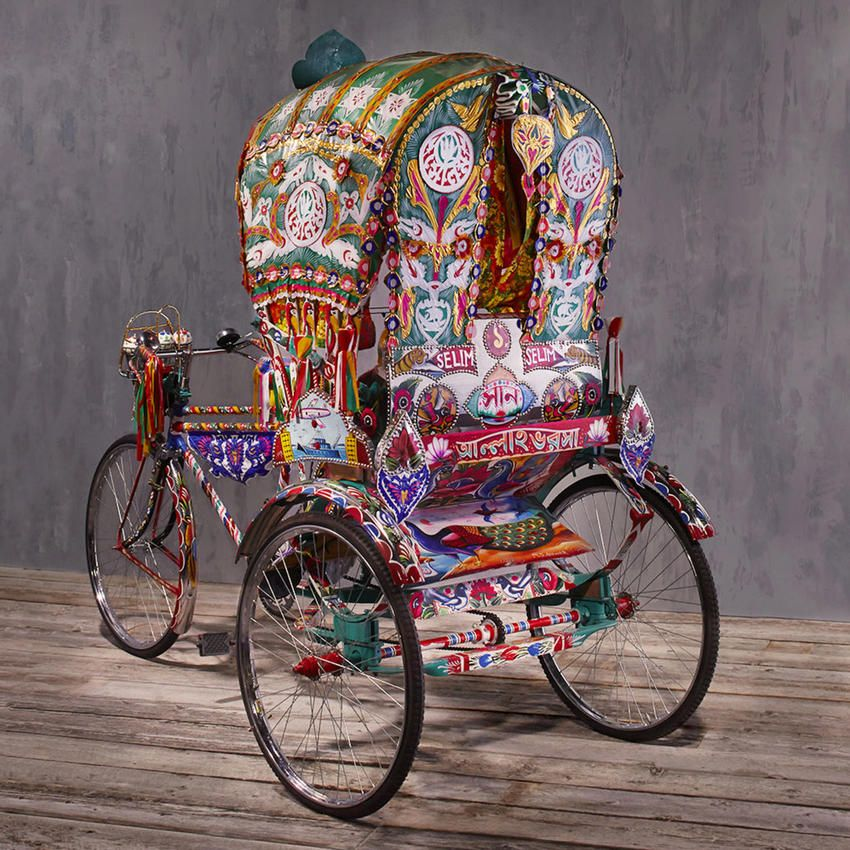Rickshaw: (97, 32, 722, 811)
